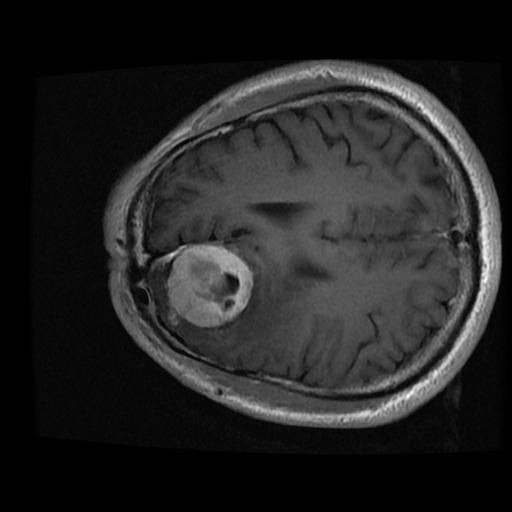meningioma: (167, 244, 254, 328)
